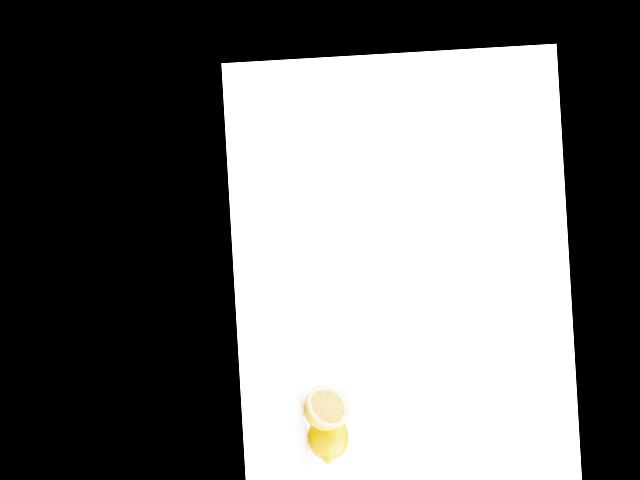lemon: (302, 420, 352, 465)
